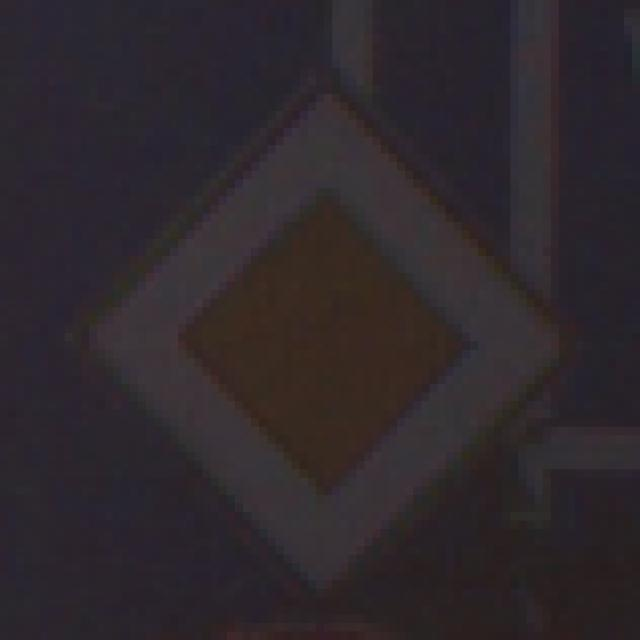Main Road: (58, 52, 584, 590)
